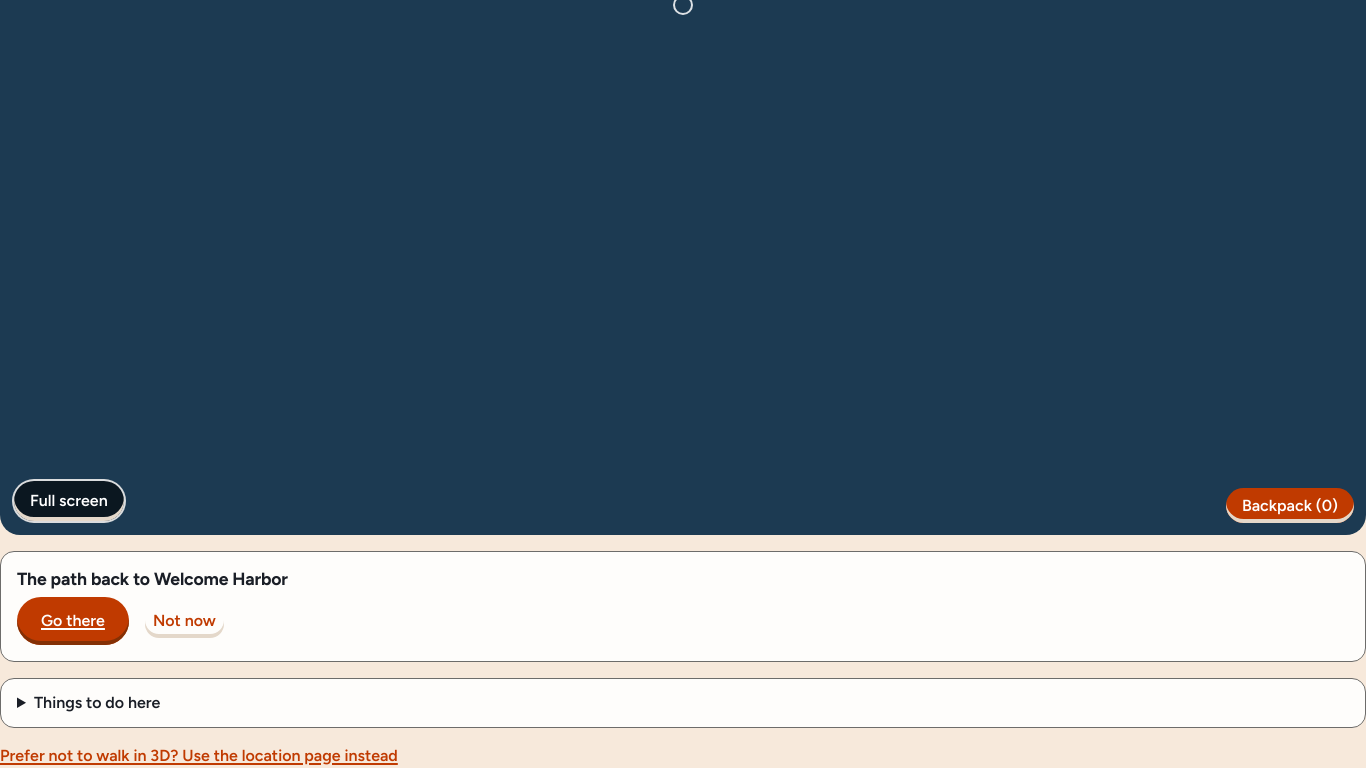
Storykeeper Castle on the generic view: parity with StorykeeperCastleWorldView › the shell › offers the way back to Welcome Harbor on reaching the exit, and dismisses it
(page scrolled)
Expected: the dialog "The path back to Welcome Harbor" is shown, [0, 550, 1365, 662]
Click the button "Not now" at coordinates (184, 621), box [145, 603, 224, 638]
(page scrolled)
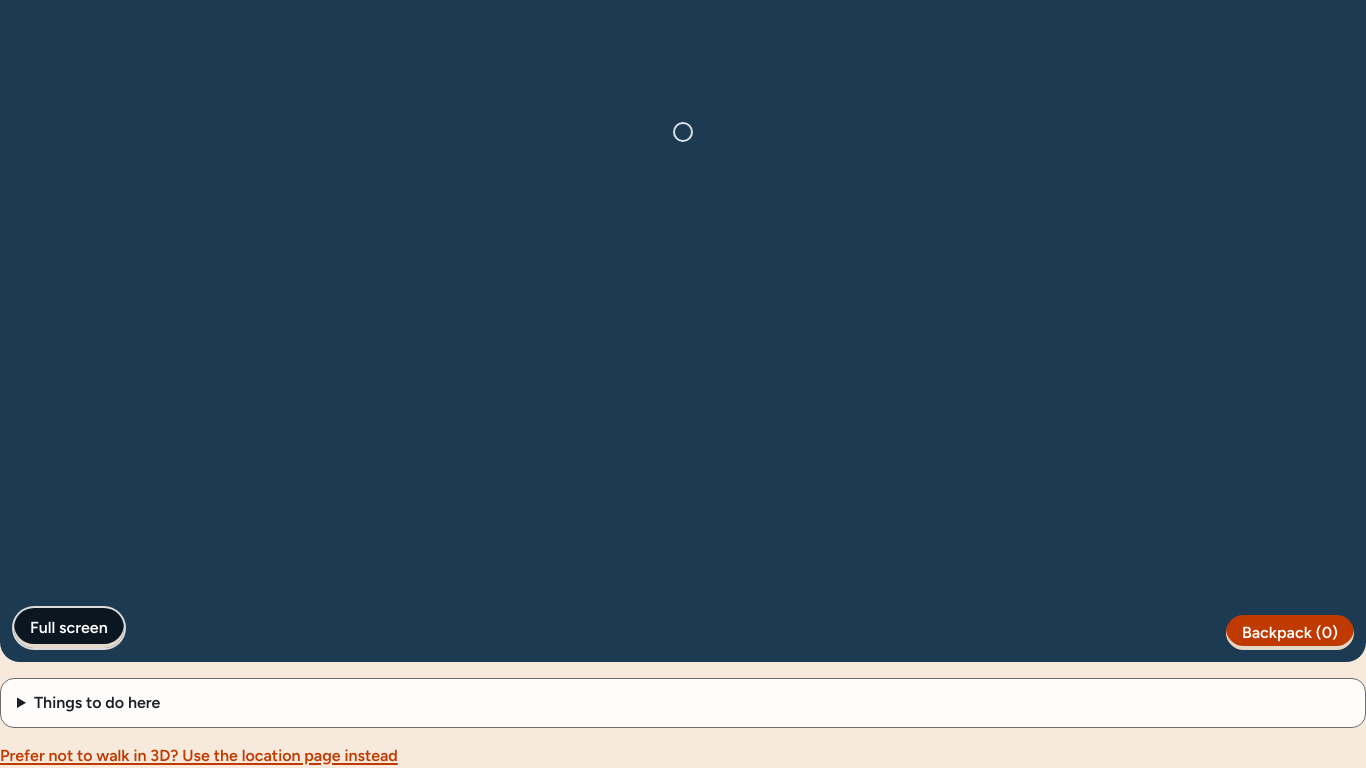
Now the dialog is gone
